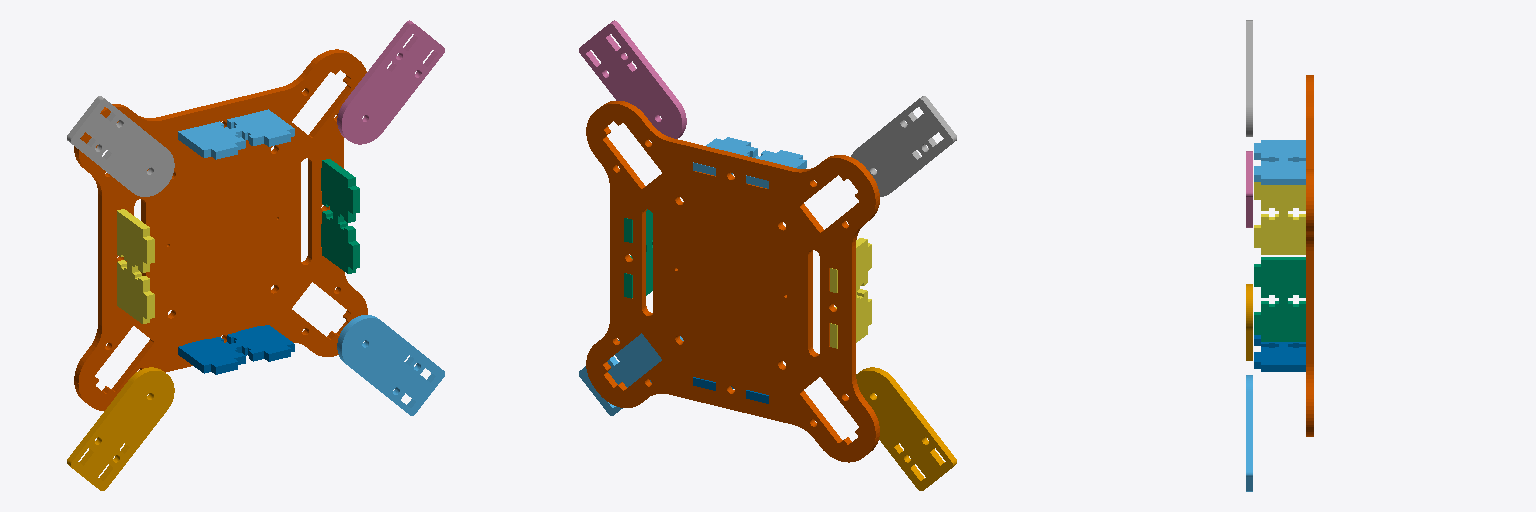
URDF robot description (myfirst):
<?xml version="1.0"?>
<robot name="myfirst">
    <link name="base_link">
        <visual>
            <geometry>
                <mesh filename="package://quadruped/meshes/body_bottom_plate.stl"/>
            </geometry>
        </visual>
    </link>
    <link name="body_spacer_1">
        <visual>
            <geometry>
                <mesh filename="package://quadruped/meshes/body_spacer.stl"/>
            </geometry>
            <origin xyz="0 0.505 0"/>
        </visual>
    </link>
    <link name="body_spacer_2">
        <visual>
            <geometry>
                <mesh filename="package://quadruped/meshes/body_spacer.stl"/>
            </geometry>
            <origin rpy="0 1.571 0" xyz="0 0.505 0"/>
        </visual>
    </link>
    <link name="body_spacer_3">
        <visual>
            <geometry>
                <mesh filename="package://quadruped/meshes/body_spacer.stl"/>
            </geometry>
            <origin rpy="0 1.571 0" xyz="0 0.505 0"/>
        </visual>
    </link>
    <link name="body_spacer_4">
        <visual>
            <geometry>
                <mesh filename="package://quadruped/meshes/body_spacer.stl"/>
            </geometry>
            <origin xyz="0 0.505 0"/>
        </visual>
    </link>
    <link name="body_top_plate">
        <visual>
            <geometry>
                <mesh filename="package://quadruped/meshes/body_top_plate.stl"/>
            </geometry>
            <origin xyz="0 0 0"/>
        </visual>
    </link>
    <link name="leg_bottom_pivot_plate_1">
        <visual>
            <geometry>
                <mesh filename="package://quadruped/meshes/leg_bottom_pivot_plate.stl"/>
            </geometry>
            <origin rpy="1.571 -0.785 0"/>
        </visual>
    </link>
    <link name="leg_bottom_pivot_plate_2">
        <visual>
            <geometry>
                <mesh filename="package://quadruped/meshes/leg_bottom_pivot_plate.stl"/>
            </geometry>
            <origin rpy="1.571 -2.355 0"/>
        </visual>
    </link>
    <link name="leg_bottom_pivot_plate_3">
        <visual>
            <geometry>
                <mesh filename="package://quadruped/meshes/leg_bottom_pivot_plate.stl"/>
            </geometry>
            <origin rpy="1.571 2.355 0"/>
        </visual>
    </link>
    <link name="leg_bottom_pivot_plate_4">
        <visual>
            <geometry>
                <mesh filename="package://quadruped/meshes/leg_bottom_pivot_plate.stl"/>
            </geometry>
            <origin rpy="1.571 0.785 0"/>
        </visual>
    </link>
    <joint name="base_body_spacer_1" type="fixed">
        <parent link="base_link"/>
        <child link="body_spacer_1"/>
        <origin xyz="0 0 1.700"/>
    </joint>
    <joint name="base_body_spacer_2" type="fixed">
        <parent link="base_link"/>
        <child link="body_spacer_2"/>
        <origin xyz="1.700 0 0"/>
    </joint>
    <joint name="base_body_spacer_3" type="fixed">
        <parent link="base_link"/>
        <child link="body_spacer_3"/>
        <origin xyz="-1.700 0 0"/>
    </joint>
    <joint name="base_body_spacer_4" type="fixed">
        <parent link="base_link"/>
        <child link="body_spacer_4"/>
        <origin xyz="0 0 -1.700"/>
    </joint>
    <joint name="base_top_joint" type="fixed">
        <parent link="base_link"/>
        <child link="body_top_plate"/>
        <origin xyz="0 0.875 0" />
    </joint>
    <joint name="leg_bottom_pivot_plate_1" type="revolute">
        <parent link="base_link"/>
        <child link="leg_bottom_pivot_plate_1"/>
        <origin xyz="1.7806 0 1.7806"/>
        <axis xyz="1.7806 0 1.7806"/>
        <limit lower="-1.571" upper="1.571" velocity="100" effort="100"/>
    </joint>
    <joint name="leg_bottom_pivot_plate_2" type="revolute">
        <parent link="base_link"/>
        <child link="leg_bottom_pivot_plate_2"/>
        <origin xyz="-1.7806 0 1.7806"/>
        <axis xyz="1.7806 0 1.7806"/>
        <limit lower="-1.571" upper="1.571" velocity="100" effort="100"/>
    </joint>
    <joint name="leg_bottom_pivot_plate_3" type="revolute">
        <parent link="base_link"/>
        <child link="leg_bottom_pivot_plate_3"/>
        <origin xyz="-1.7806 0 -1.7806"/>
        <axis xyz="-1.7806 0 -1.7806"/>
        <limit lower="-1.571" upper="1.571" velocity="100" effort="100"/>
    </joint>
    <joint name="leg_bottom_pivot_plate_4" type="revolute">
        <parent link="base_link"/>
        <child link="leg_bottom_pivot_plate_4"/>
        <origin xyz="1.7806 0 -1.7806"/>
        <axis xyz="1.7806 0 -1.7806"/>
        <limit lower="-1.571" upper="1.571" velocity="100" effort="100"/>
    </joint>
</robot>

--- Facts derived from the render (not from the file) ---
The picture shows the robot from 3 angles, left to right: view 1: azimuth 30°, elevation 25°; view 2: azimuth 150°, elevation 25°; view 3: azimuth 270°, elevation 25°; orthographic projection.
Model myfirst with 10 links and 9 joints (4 revolute, 5 fixed), rooted at base_link, posed every joint at zero.
Visible links, largest first — view 1: body_top_plate, leg_bottom_pivot_plate_3, leg_bottom_pivot_plate_1, leg_bottom_pivot_plate_4, leg_bottom_pivot_plate_2, body_spacer_2, body_spacer_3, body_spacer_4, body_spacer_1; view 2: body_top_plate, leg_bottom_pivot_plate_3, leg_bottom_pivot_plate_1, leg_bottom_pivot_plate_2, leg_bottom_pivot_plate_4, body_spacer_3, body_spacer_1, body_spacer_2; view 3: body_spacer_2, body_spacer_3, body_top_plate, body_spacer_1, body_spacer_4, leg_bottom_pivot_plate_2, leg_bottom_pivot_plate_4, leg_bottom_pivot_plate_1, leg_bottom_pivot_plate_3.
Boxes of the visible links, x1,y1,x2,y2 form: body_top_plate: (74,49,367,410); leg_bottom_pivot_plate_3: (67,367,174,490); leg_bottom_pivot_plate_1: (337,20,444,144); leg_bottom_pivot_plate_4: (337,315,444,415); leg_bottom_pivot_plate_2: (67,96,174,196); body_spacer_2: (321,159,359,273); body_spacer_3: (117,209,154,323); body_spacer_4: (178,325,294,374); body_spacer_1: (178,109,294,159); body_top_plate: (586,101,879,462); leg_bottom_pivot_plate_3: (856,367,956,490); leg_bottom_pivot_plate_1: (579,20,686,138); leg_bottom_pivot_plate_2: (851,96,956,196); leg_bottom_pivot_plate_4: (579,333,683,415); body_spacer_3: (830,238,871,348); body_spacer_1: (693,137,806,188); body_spacer_2: (624,209,652,298); body_spacer_2: (1254,257,1305,341); body_spacer_3: (1254,182,1305,254); body_top_plate: (1306,75,1313,436); body_spacer_1: (1254,140,1305,184); body_spacer_4: (1254,335,1305,371); leg_bottom_pivot_plate_2: (1246,20,1252,136); leg_bottom_pivot_plate_4: (1246,375,1252,491); leg_bottom_pivot_plate_1: (1246,151,1252,227); leg_bottom_pivot_plate_3: (1246,284,1252,360).
Size in the robot's own frame: 6.2 by 1.13 by 6.2 metres.
9 mesh visuals loaded from 4 distinct referenced files (3 binary STL); not drawn: 1 (reference not matched to a file when rendering).
